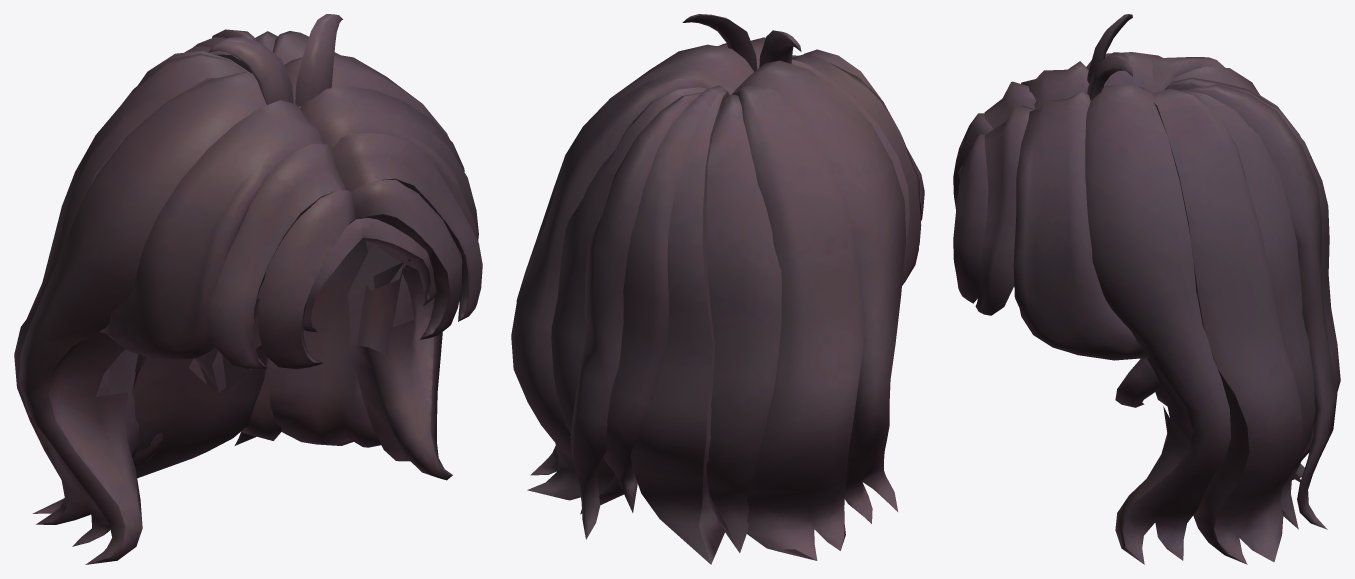
The model's file is hair_long.glb.
3 views of the same model, side by side, from view 1: azimuth 30°, elevation 25°; view 2: azimuth 150°, elevation 25°; view 3: azimuth 270°, elevation 25° (orthographic). The views are drawn at different scales.
Parts seen in each view (by area): view 1: Hairmodel; view 2: Hairmodel; view 3: Hairmodel.
Part boxes in pixels (x1=…): Hairmodel: x1=14, y1=14, x2=482, y2=564; Hairmodel: x1=511, y1=14, x2=924, y2=564; Hairmodel: x1=953, y1=14, x2=1340, y2=564.
Size of the model in its own units: 5.38 by 6.44 by 4.85.
1 material, 1 textured.
